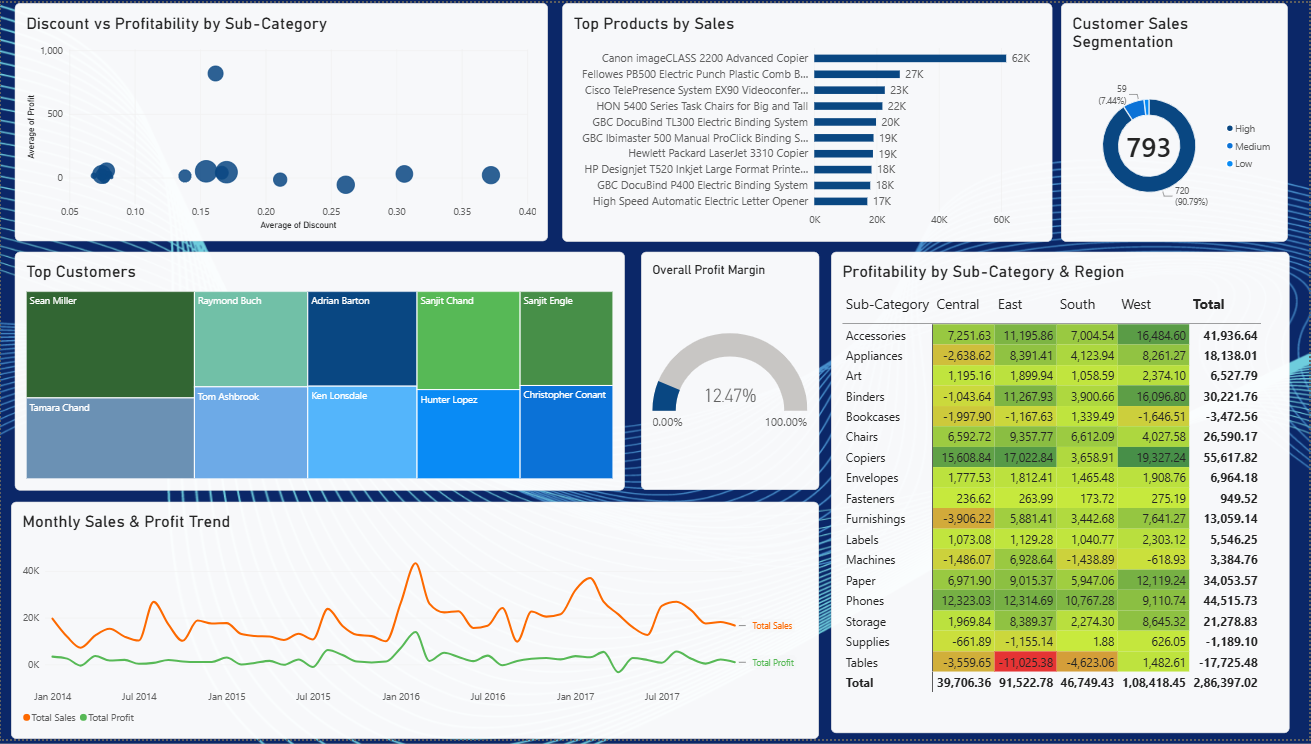

What the dashboard file says about the page in this screenshot:
{"tool":"powerbi","page":{"name":"Page 2","canvas":[1920,1080],"ordinal":1},"visuals":[{"type":"treemap","title":"Top Customers","fields":{"Details":["Superstore_Cleaned2.Customer Name"],"Values":["Superstore_Cleaned2.Total Sales"]},"box":[20,365,895,350],"z":0},{"type":"clusteredBarChart","title":"Top Products by Sales","fields":{"Category":["Superstore_Cleaned2.Product Name"],"Y":["Superstore_Cleaned2.Total Sales"]},"box":[823.3,0,719,350.3],"z":1000},{"type":"scatterChart","title":"Discount vs Profitability by Sub-Category","fields":{"Category":["Superstore_Cleaned2.Sub-Category"],"Size":["Superstore_Cleaned2.Total Sales"],"X":["Avg(Superstore_Cleaned2.Discount)"],"Y":["Avg(Superstore_Cleaned2.Profit)"]},"box":[20.6,0,782.2,349.9],"z":1001},{"type":"lineChart","title":"Monthly Sales & Profit Trend","fields":{"Category":["Superstore_Cleaned2.Order Date.Variation.Date Hierarchy.Year","Superstore_Cleaned2.Order Date.Variation.Date Hierarchy.Month"],"Y":["Superstore_Cleaned2.Total Sales","Superstore_Cleaned2.Total Profit"]},"box":[14.4,732.8,1185.6,347.9],"z":1002},{"type":"donutChart","title":"Customer Sales Segmentation","fields":{"Category":["Superstore_Cleaned2.Sales Category"],"Y":["Count(Superstore_Cleaned2.Customer Name)"]},"box":[1556.1,0,333,350],"z":1003},{"type":"pivotTable","title":"Profitability by Sub-Category & Region","fields":{"Columns":["Superstore_Cleaned2.Region"],"Rows":["Superstore_Cleaned2.Sub-Category"],"Values":["Superstore_Cleaned2.Total Profit"]},"box":[1218.5,364.3,673.1,706],"z":1004},{"type":"gauge","fields":{"Y":["Superstore_Cleaned2.Overall Profit Margin"]},"box":[938.6,364.3,261.4,349.9],"z":1005}]}

Visuals, with their boxes in screenshot pixels (x1, y1, x2, y2), scaled from the page's 1920x1080 canvas onto the 1311x744 screenshot:
"Top Customers" treemap: locate(14, 251, 625, 493)
"Top Products by Sales" clusteredBarChart: locate(562, 0, 1053, 241)
"Discount vs Profitability by Sub-Category" scatterChart: locate(14, 0, 548, 241)
"Monthly Sales & Profit Trend" lineChart: locate(10, 505, 819, 743)
"Customer Sales Segmentation" donutChart: locate(1063, 0, 1290, 241)
"Profitability by Sub-Category & Region" pivotTable: locate(832, 251, 1292, 737)
gauge - Superstore_Cleaned2.Overall Profit Margin: locate(641, 251, 819, 492)
